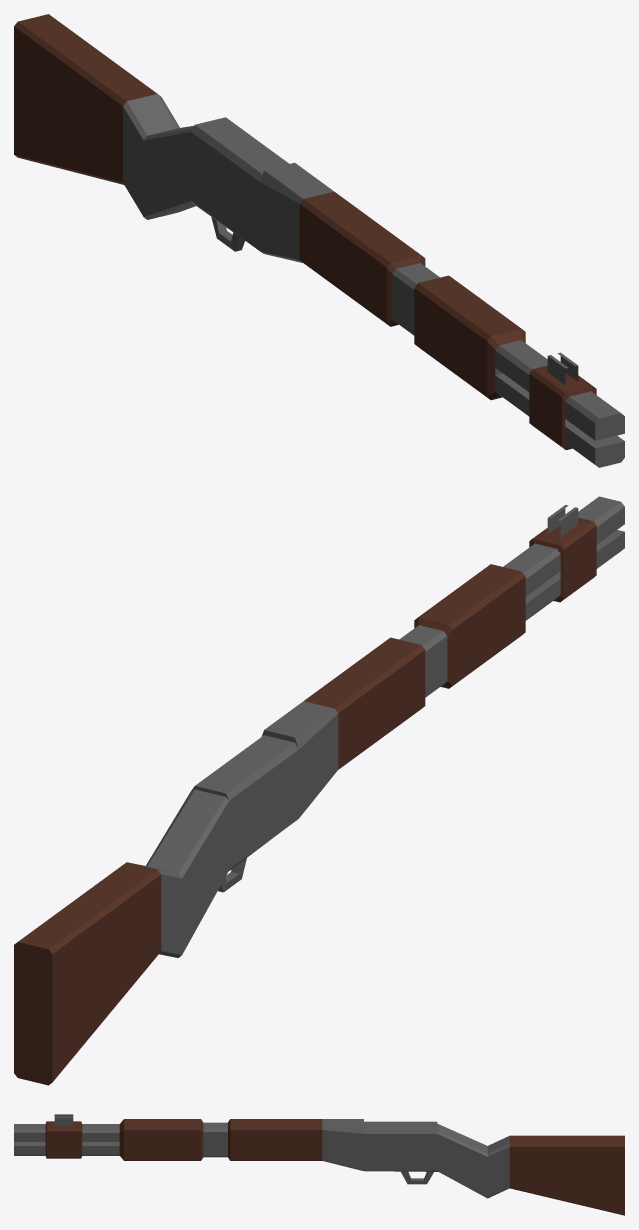
The model's file is RIFLE.fbx.
3 renders of one model, top to bottom at view 1: azimuth 30°, elevation 25°; view 2: azimuth 150°, elevation 25°; view 3: azimuth 270°, elevation 25°, orthographic. The views are drawn at different scales.
Parts seen in each view (by area): view 1: Cube.001; view 2: Cube.001; view 3: Cube.001.
Part boxes in pixels (x1,y1,x2,y2): Cube.001: [14, 14, 624, 467]; Cube.001: [14, 496, 624, 1085]; Cube.001: [14, 1114, 624, 1215].
Size of the model in its own units: 24.3 by 109 by 632.
